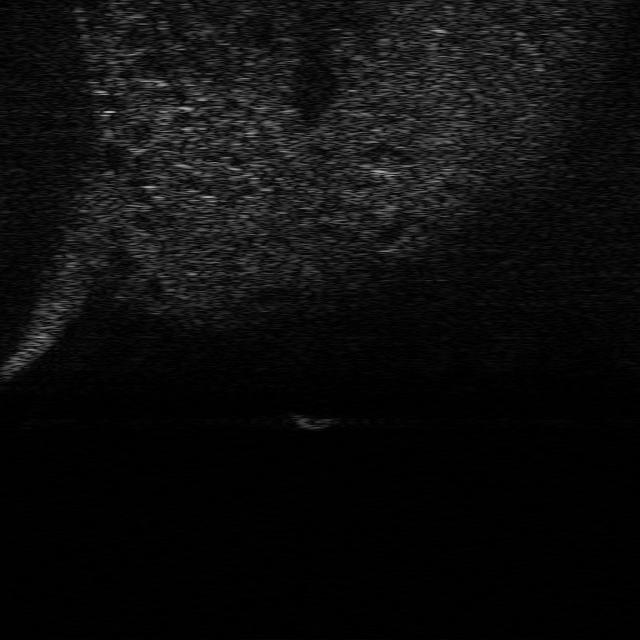cube: (289, 405, 341, 431)
